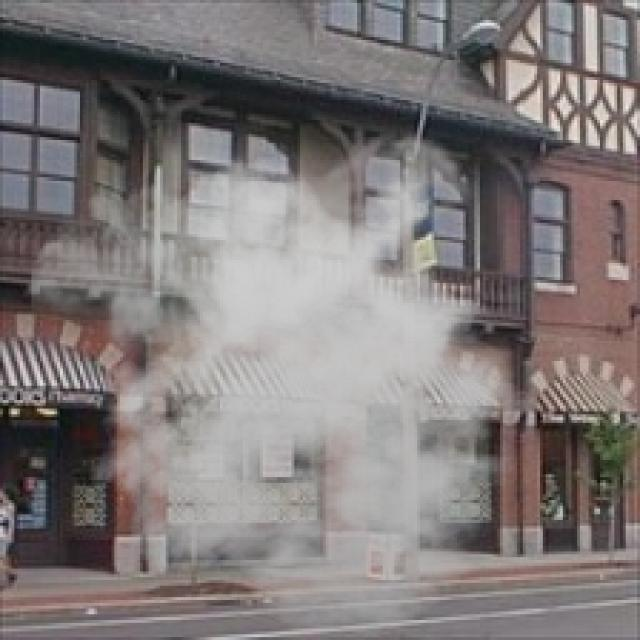smoke: (31, 123, 563, 637)
